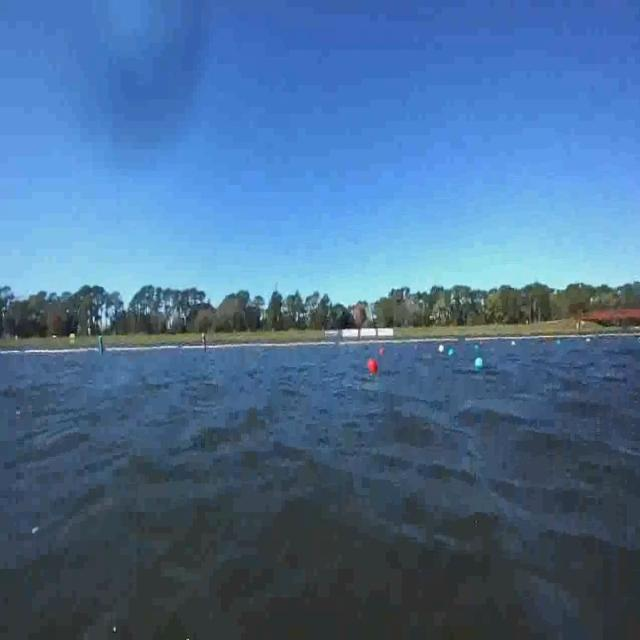green-buoy: (473, 356, 484, 369), (447, 348, 456, 358)
red-buoy: (367, 358, 377, 374), (378, 345, 386, 356)
yellow-buoy: (438, 342, 445, 356)
